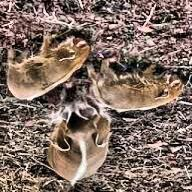boar: (55, 58, 184, 122), (5, 32, 91, 101), (46, 112, 112, 188)
